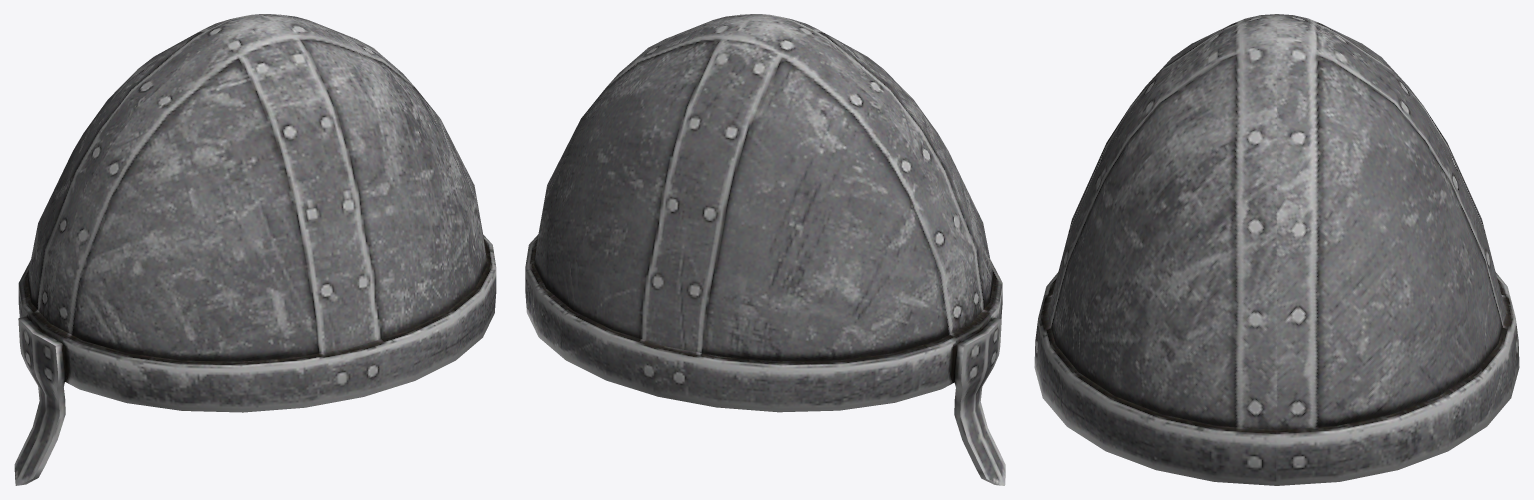
The model's file is Scandinavian_Helmet_01.fbx.
3 views of the same model, side by side, from view 1: azimuth 30°, elevation 25°; view 2: azimuth 150°, elevation 25°; view 3: azimuth 270°, elevation 25° (orthographic). The views are drawn at different scales.
Parts seen in each view (by area): view 1: Scandinavian_Helmet_01_LOD0; view 2: Scandinavian_Helmet_01_LOD0; view 3: Scandinavian_Helmet_01_LOD0.
Part boxes in pixels (x1,y1,x2,y2): Scandinavian_Helmet_01_LOD0: [14, 14, 496, 485]; Scandinavian_Helmet_01_LOD0: [525, 14, 1005, 485]; Scandinavian_Helmet_01_LOD0: [1034, 14, 1519, 485].
Size of what is drawn, in the model's own units: 25.98 by 22.01 by 20.9.
